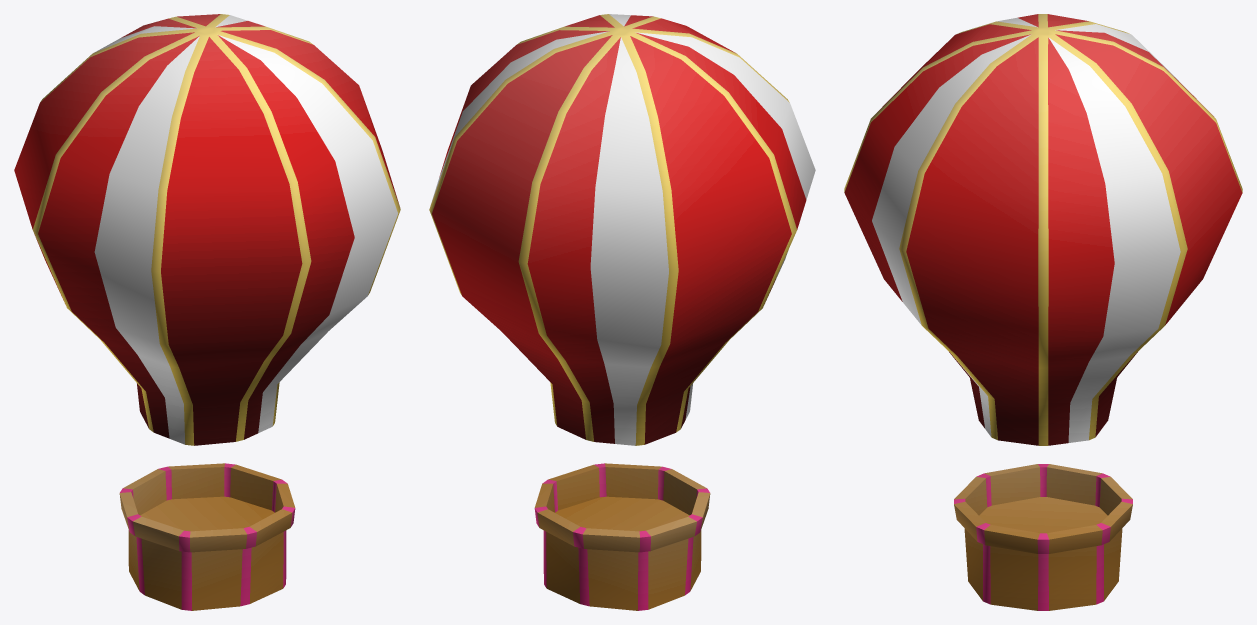
File: balloon.fbx
3 views of the same model, side by side, from view 1: azimuth 30°, elevation 25°; view 2: azimuth 150°, elevation 25°; view 3: azimuth 270°, elevation 25° (orthographic).
Visible parts, largest first — view 1: polySurface1, polySurface2; view 2: polySurface1, polySurface2; view 3: polySurface1, polySurface2.
Part boxes in pixels (x1,y1,x2,y2): polySurface1: (14, 14, 400, 445); polySurface2: (119, 463, 295, 610); polySurface1: (429, 14, 815, 445); polySurface2: (534, 463, 710, 610); polySurface1: (844, 14, 1242, 445); polySurface2: (954, 464, 1132, 610).
Bounding box in the file's own units: 66.33 × 101 × 66.33.
